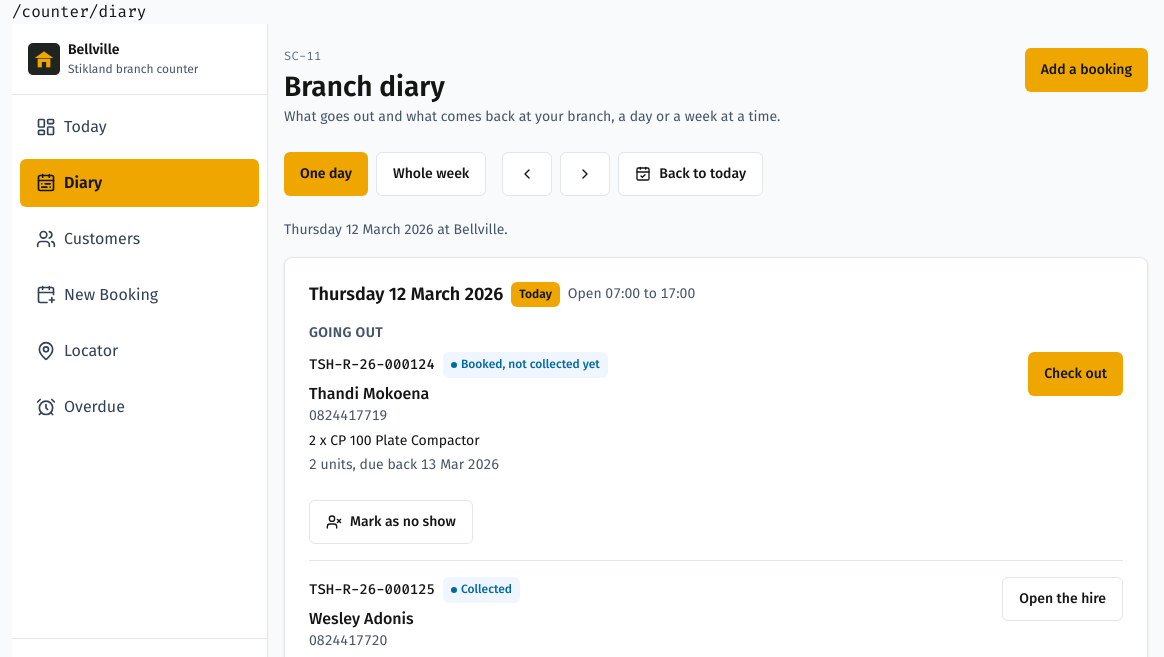
Test: moving through the diary › shows a whole week from Monday, moves a week at a time, and opens one day of it
Expected: the heading "Thursday 12 March 2026 Today Open 07:00 to 17:00" is shown, [309,282,695,307]
Click the button "Whole week". click: point(431, 174)
box: [376,152,486,196]
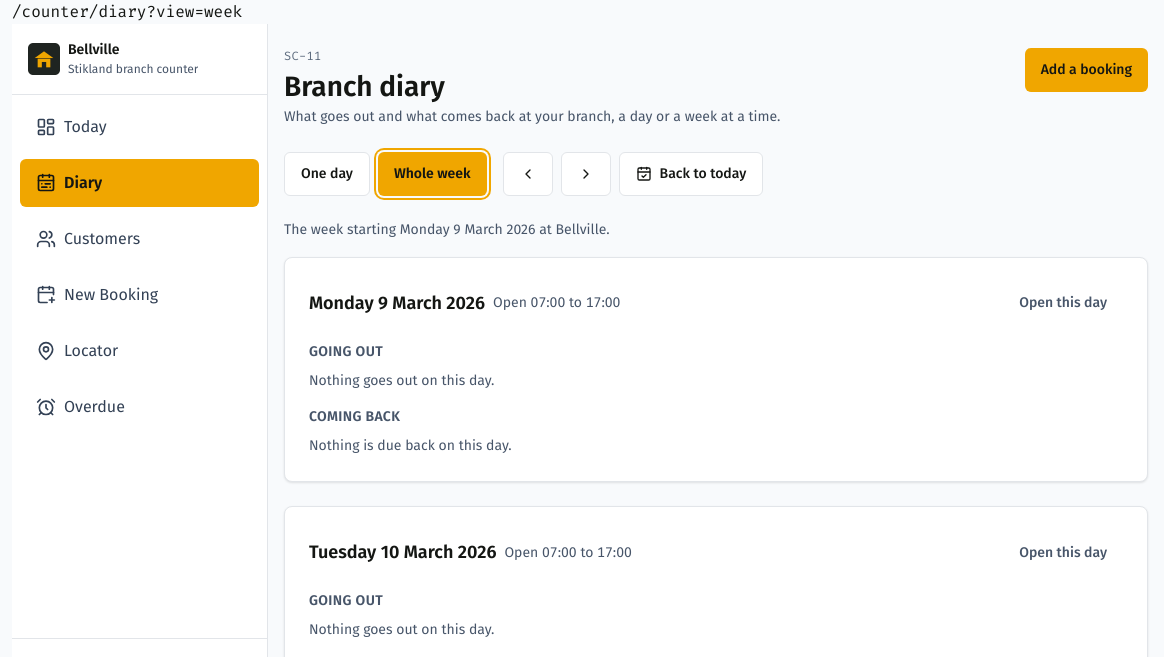
Now the text with test id "current-address" reads "/counter/diary?view=week", box [12,1,242,22]
Now the text "The week starting Monday 9 March 2026 at Bellville." is shown, box [284,221,610,238]
Click the 2nd button named "Next week". click: point(586, 174)
box: [561,152,611,196]
(page scrolled)
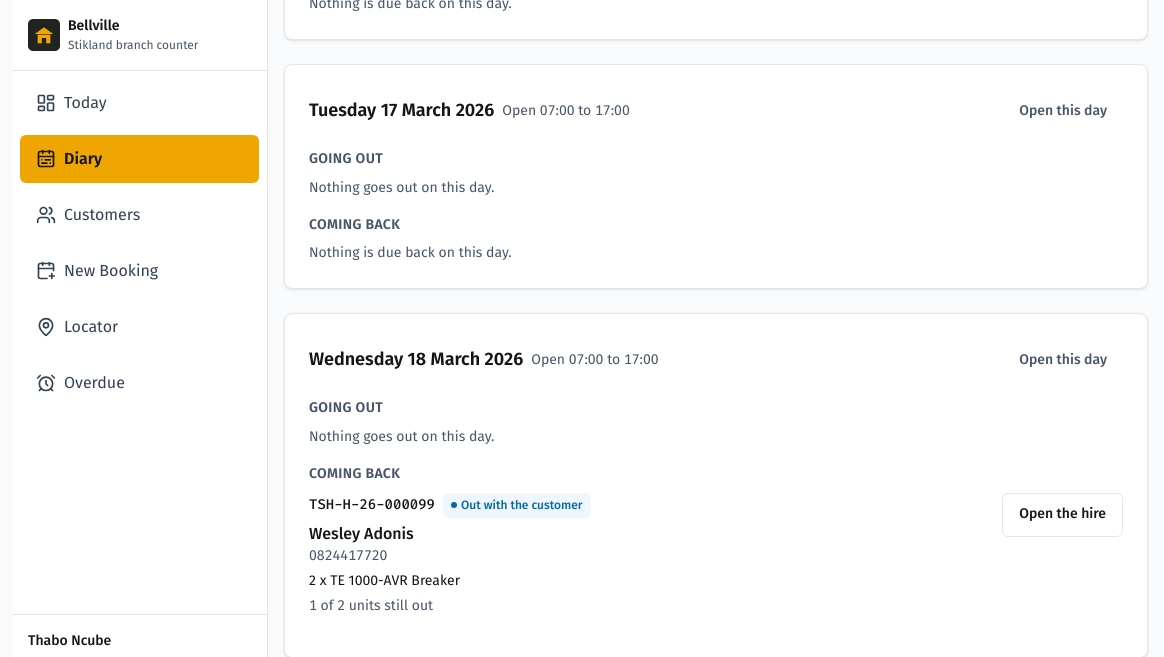
Click the button named "Open this day Wednesday 18 March 2026". click: point(1063, 360)
box: [1003,338,1123,382]
(page scrolled)
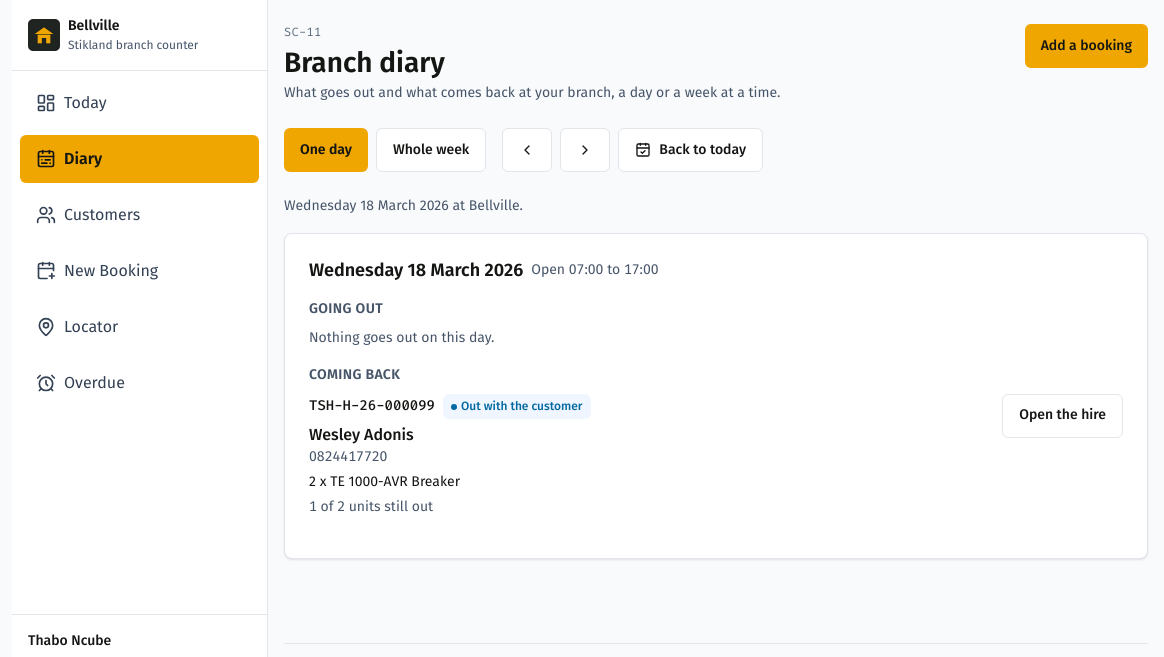
Now the text "Wednesday 18 March 2026 at Bellville." is shown, box [284,197,523,214]
